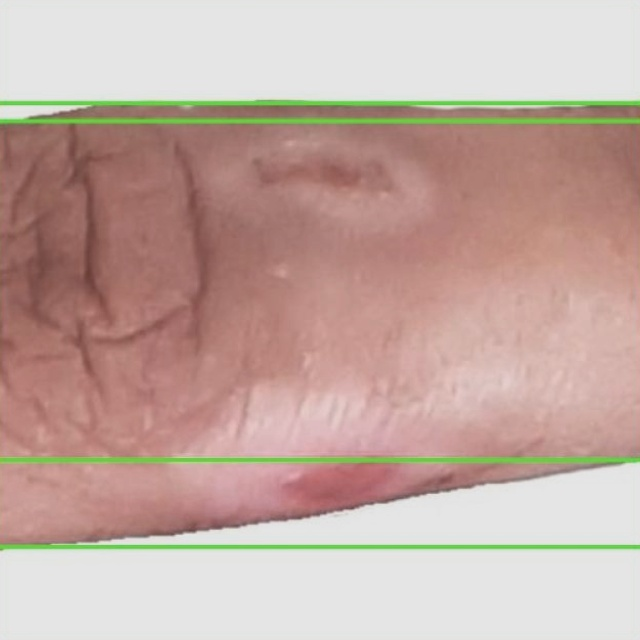Atopic Dermatitis: (0, 103, 639, 546), (0, 459, 639, 639), (0, 0, 639, 122)
